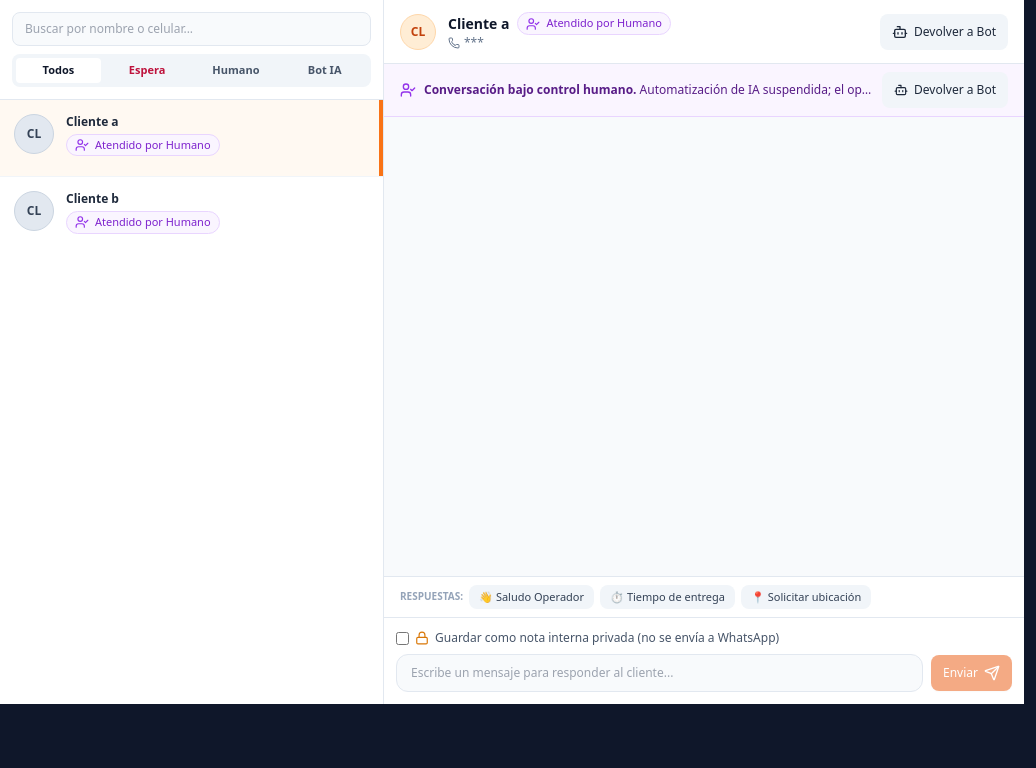
it: runtime component lifecycle and polling integration › does not replace the selected chat with a late response from another conversation
What coordinates should you click on to do the following:
click the text "Cliente b"
I would click on:
 (92, 199)
Its box is x1=66 y1=191 x2=119 y2=207.
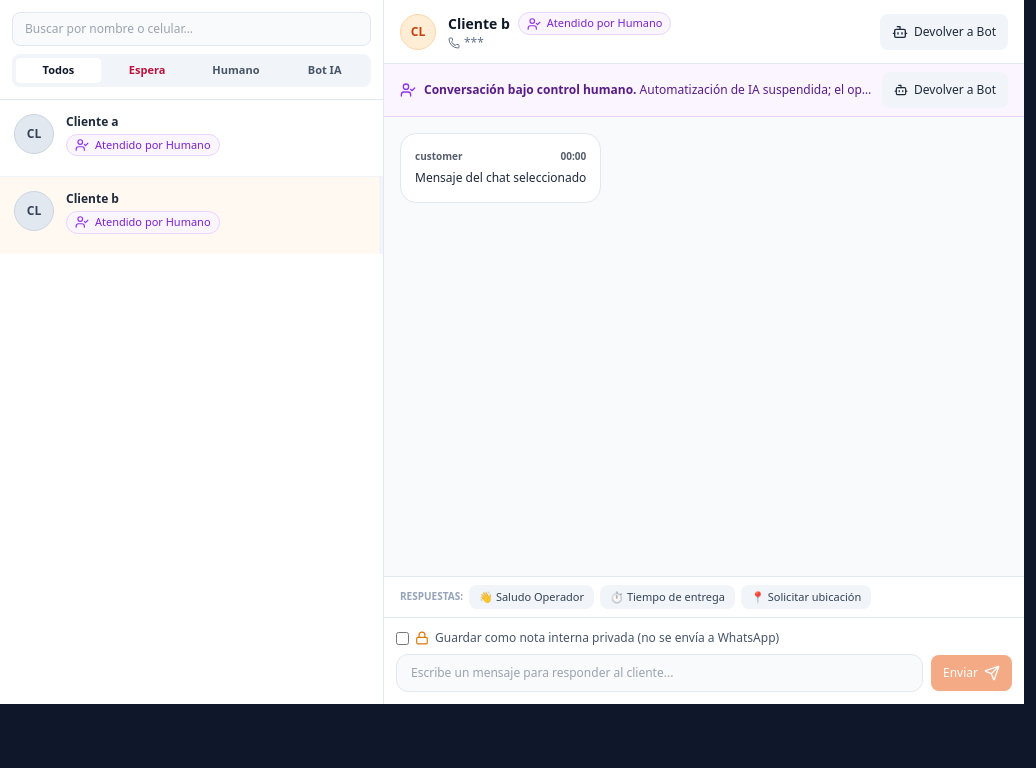
Now the text "Mensaje del chat seleccionado" is shown, box x1=415 y1=168 x2=586 y2=188
